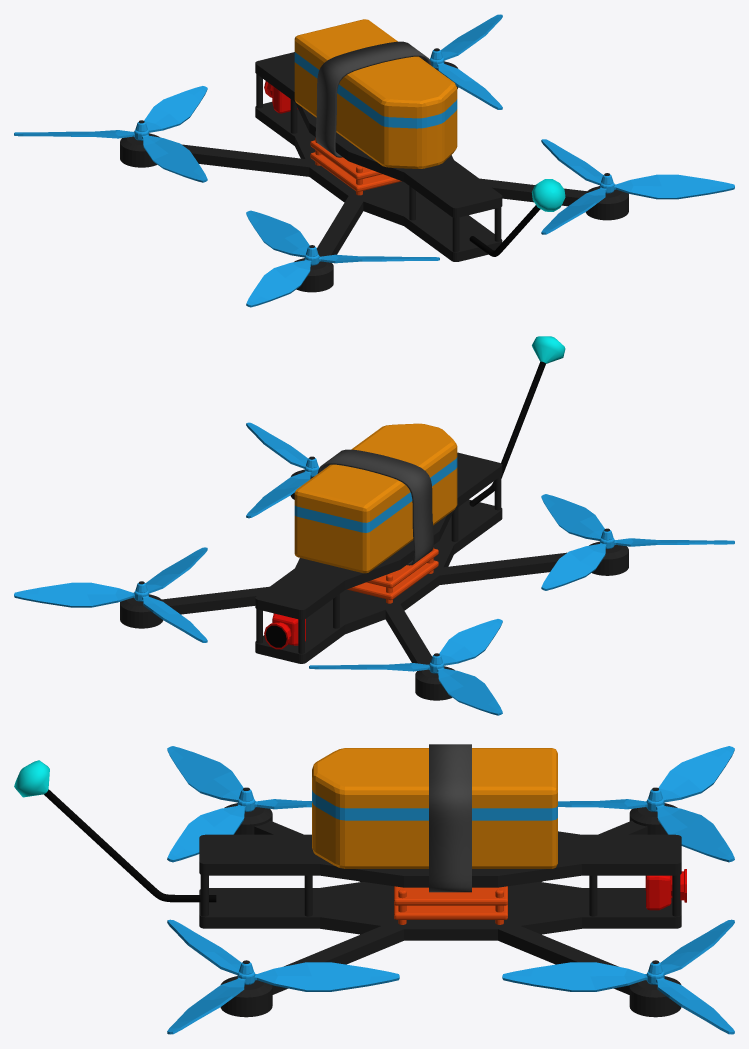
Rendered from drone_model_v2.fbx.
3 views of the same model, one above another, from view 1: azimuth 30°, elevation 25°; view 2: azimuth 150°, elevation 25°; view 3: azimuth 270°, elevation 25° (orthographic). The views are drawn at different scales.
Parts seen in each view (by area): view 1: Drone, Battery, Prop_Back_Right, Prop_Front_Left, Prop_Back_Left, Battery_Strap, Prop_Front_Right, FC_ESC, Antenna, Cam; view 2: Drone, Battery, Prop_Front_Right, Prop_Front_Left, Prop_Back_Left, Battery_Strap, Prop_Back_Right, FC_ESC, Antenna, Cam; view 3: Drone, Battery, Battery_Strap, Prop_Back_Right, Prop_Front_Right, Prop_Front_Left, Prop_Back_Left, FC_ESC, Antenna, Cam.
Boxes of the visible parts, x1,y1,x2,y2 form: Drone: (120, 48, 628, 292); Battery: (294, 19, 457, 168); Prop_Back_Right: (541, 139, 734, 234); Prop_Front_Left: (14, 86, 207, 182); Prop_Back_Left: (246, 210, 439, 307); Battery_Strap: (315, 41, 431, 157); Prop_Front_Right: (429, 14, 502, 109); FC_ESC: (310, 138, 401, 195); Antenna: (469, 179, 565, 256); Cam: (264, 81, 298, 113); Drone: (120, 452, 628, 700); Battery: (294, 423, 457, 573); Prop_Front_Right: (14, 547, 207, 642); Prop_Front_Left: (309, 619, 502, 715); Prop_Back_Left: (541, 494, 734, 590); Battery_Strap: (317, 449, 433, 565); Prop_Back_Right: (246, 422, 319, 518); FC_ESC: (347, 547, 438, 603); Antenna: (469, 336, 565, 506); Cam: (264, 613, 305, 649); Drone: (199, 787, 681, 1017); Battery: (312, 748, 557, 868); Battery_Strap: (429, 744, 471, 892); Prop_Back_Right: (167, 919, 399, 1034); Prop_Front_Right: (502, 919, 734, 1034); Prop_Front_Left: (558, 746, 734, 862); Prop_Back_Left: (167, 746, 311, 862); FC_ESC: (394, 886, 507, 924); Antenna: (14, 760, 216, 902); Cam: (645, 869, 686, 910).
Size of the model in its own units: 52.93 by 13.57 by 56.38.
